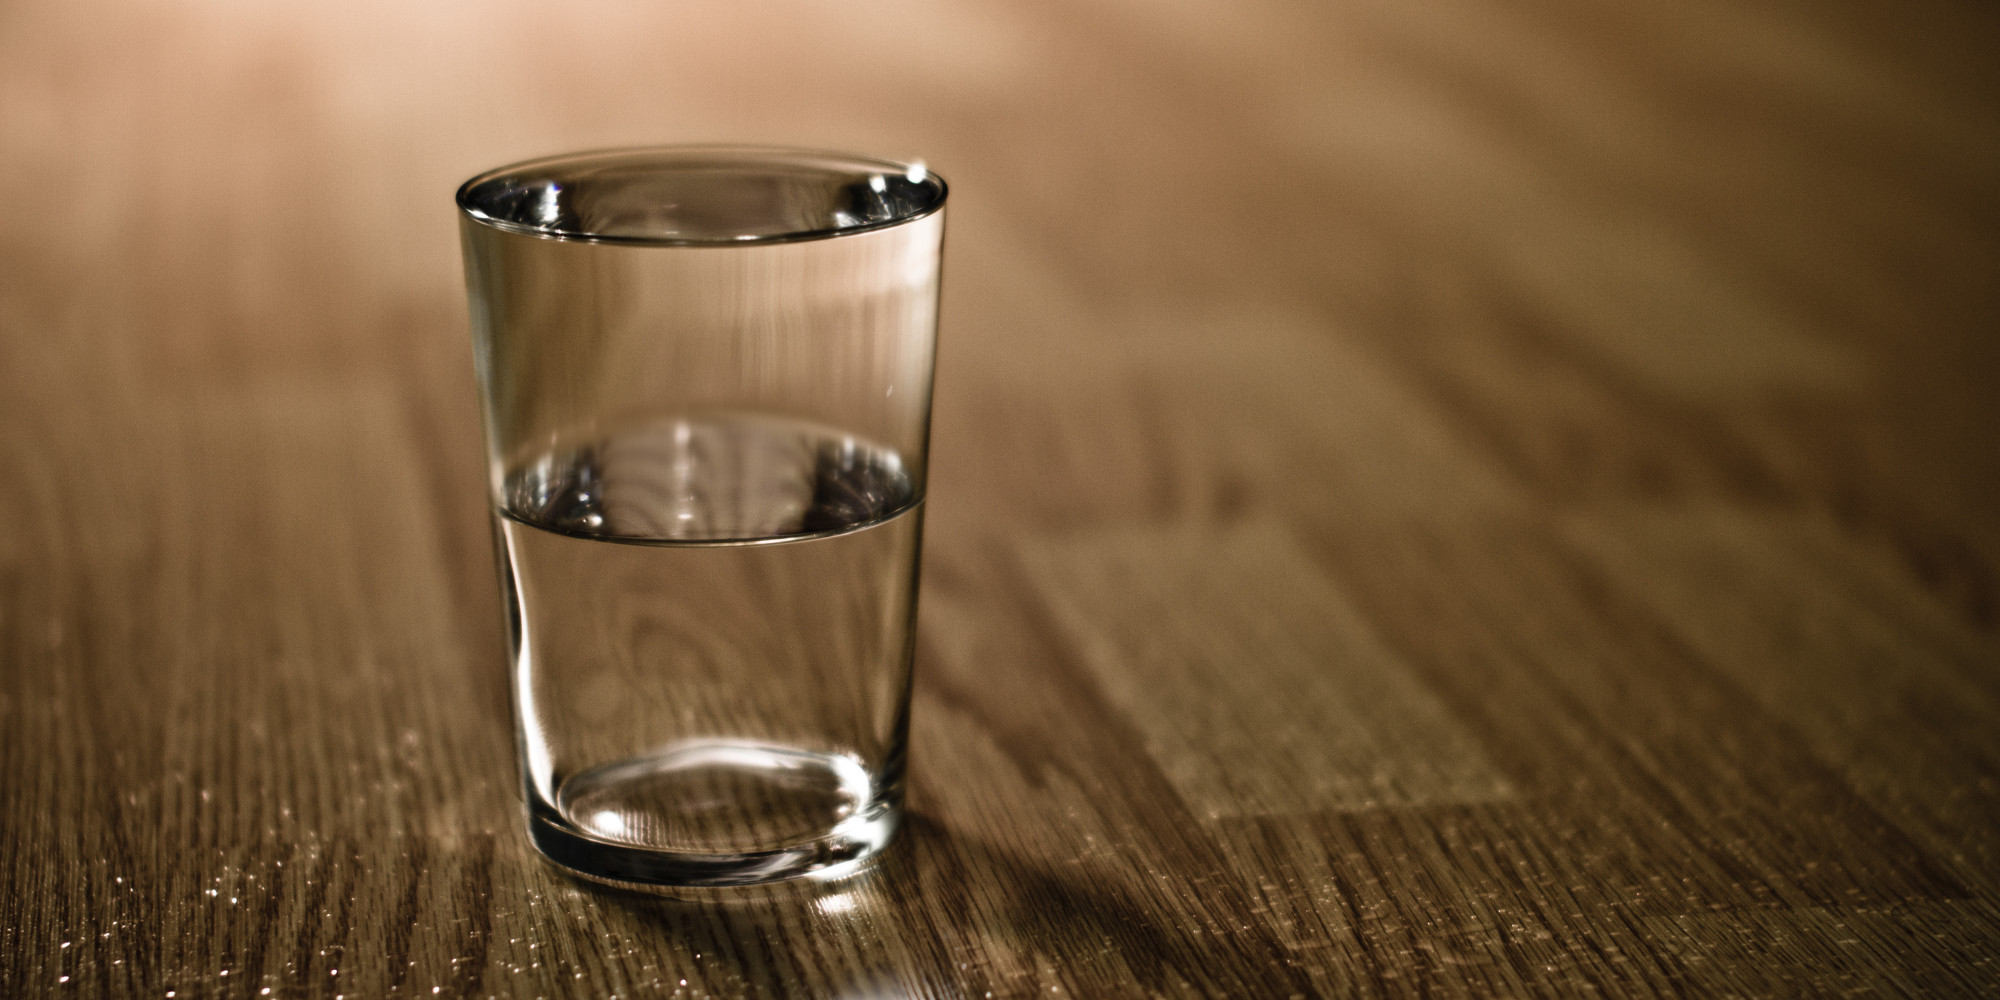glass of water: (449, 187, 957, 883)
